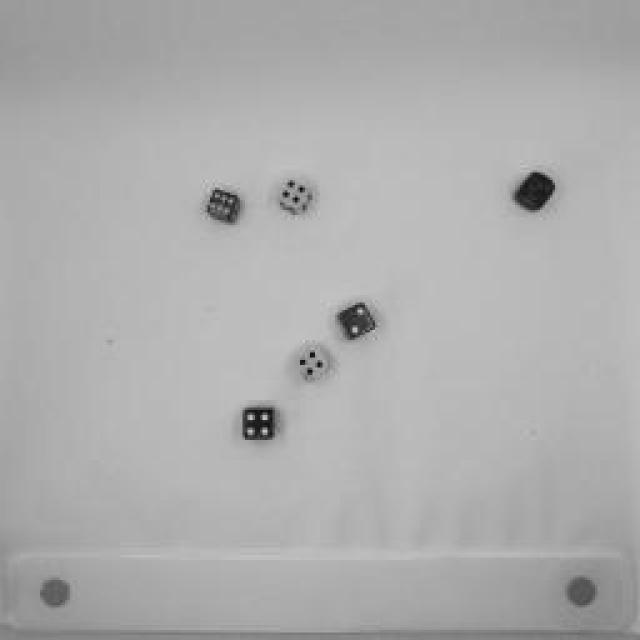dice_2: (328, 299, 384, 346)
dice_3: (518, 166, 558, 222)
dice_4: (270, 170, 320, 220), (235, 404, 285, 446), (289, 344, 336, 386)
dice_6: (201, 185, 244, 230)
